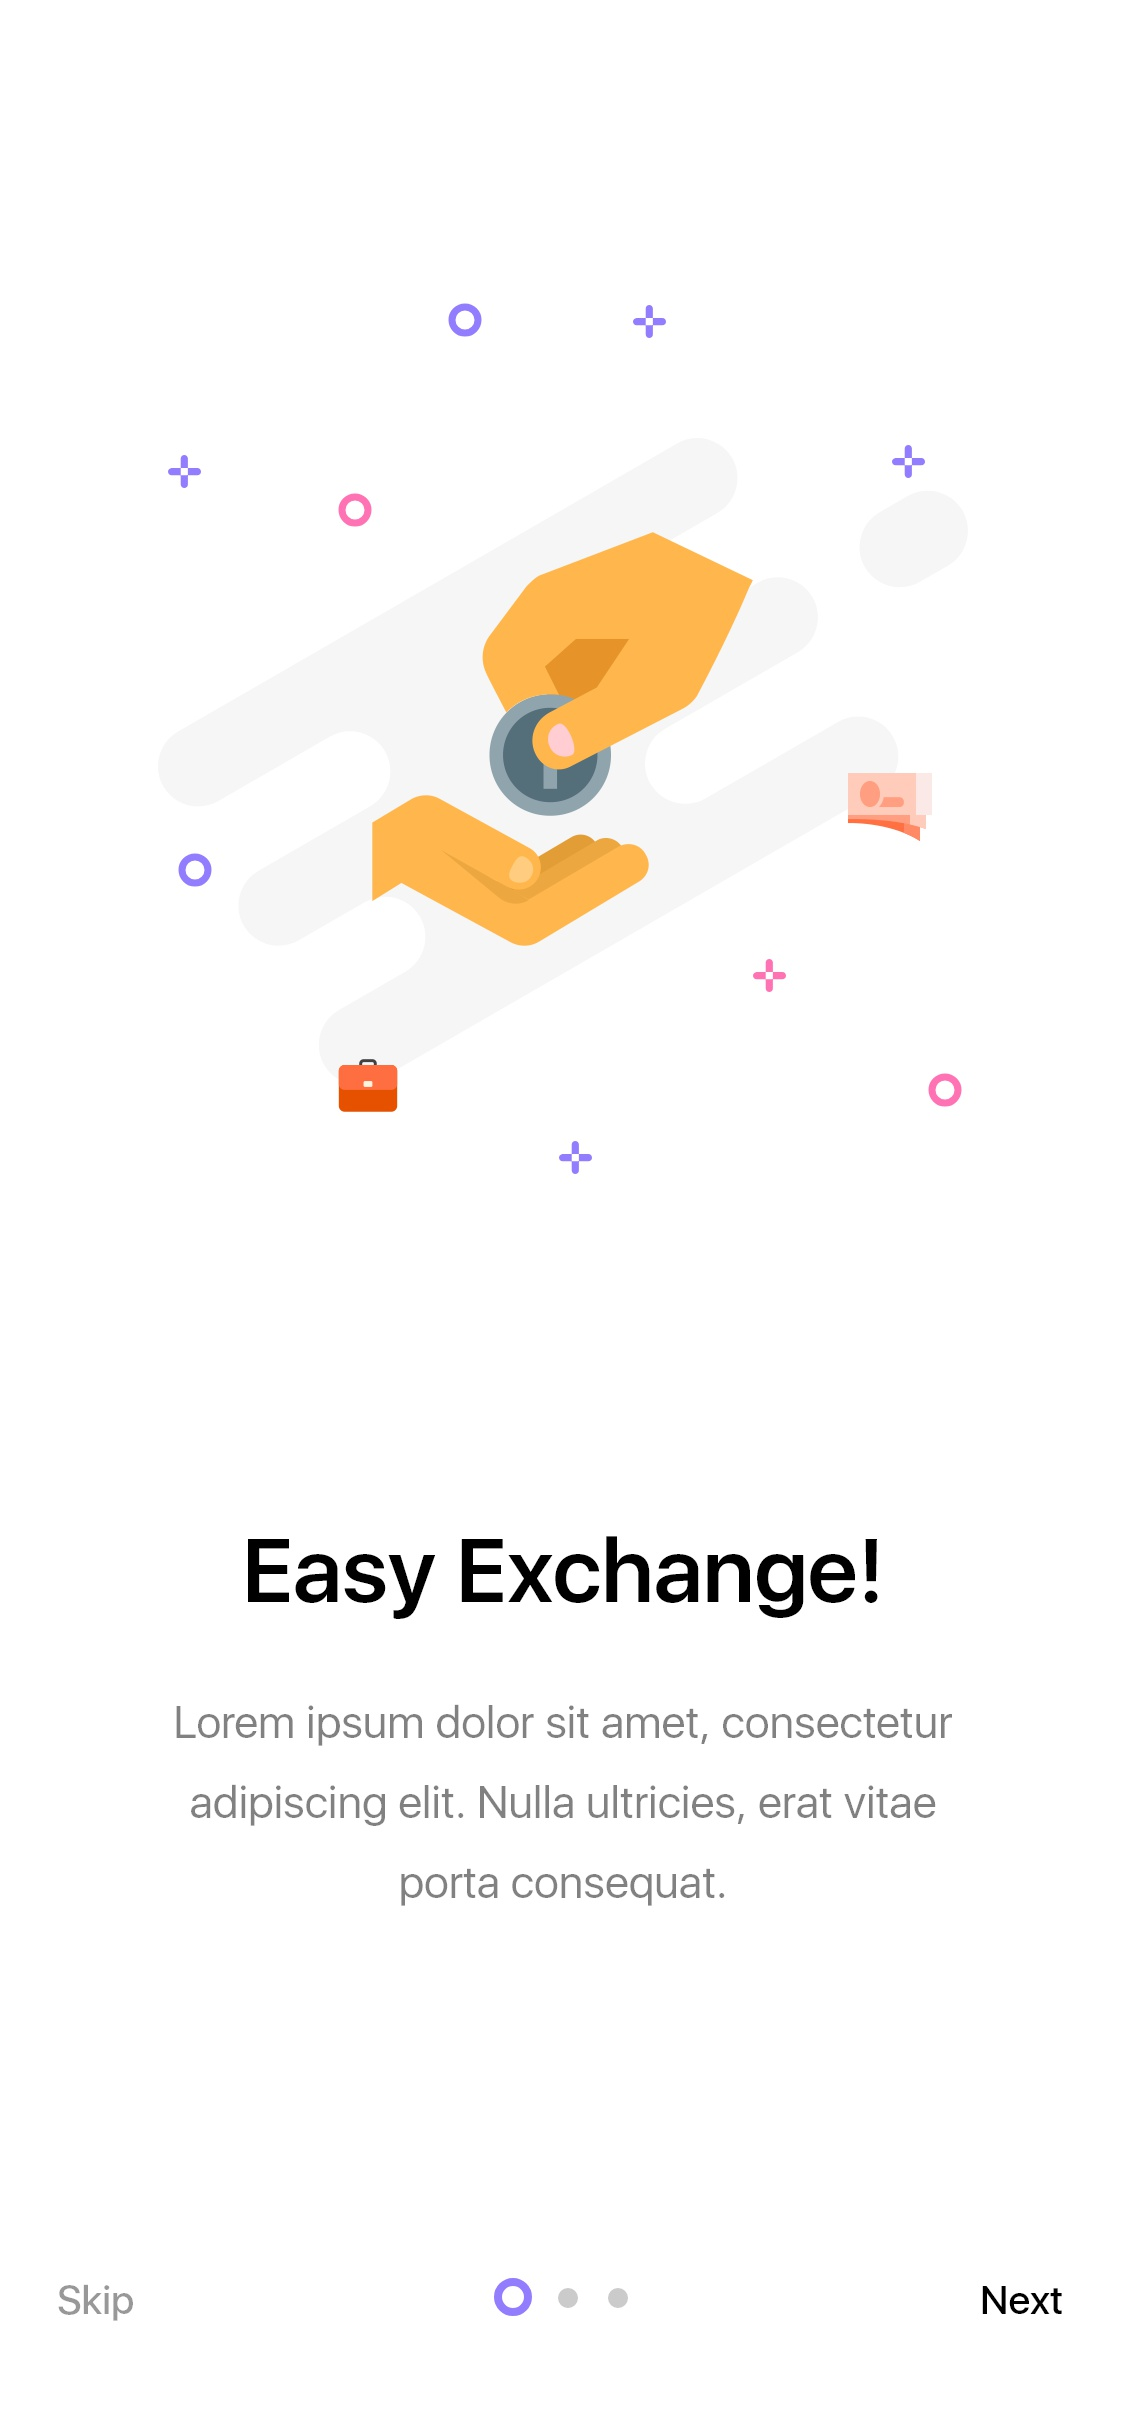Image: (155, 300, 967, 1178)
PageIndicator: (493, 2274, 631, 2318)
Text: (176, 1703, 954, 1908), (246, 1533, 879, 1620), (57, 2282, 137, 2324), (982, 2285, 1064, 2316)
